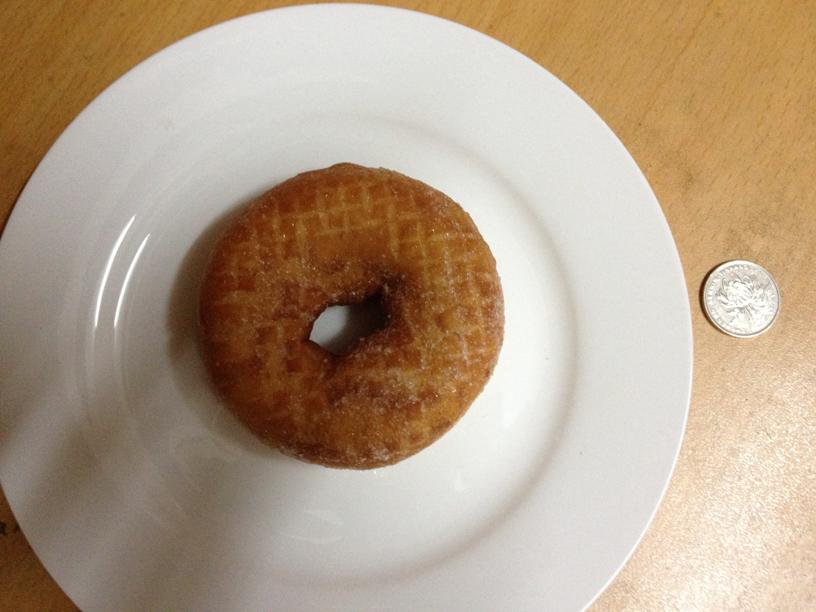coin: (702, 256, 780, 339)
doughnut: (214, 162, 506, 472)
